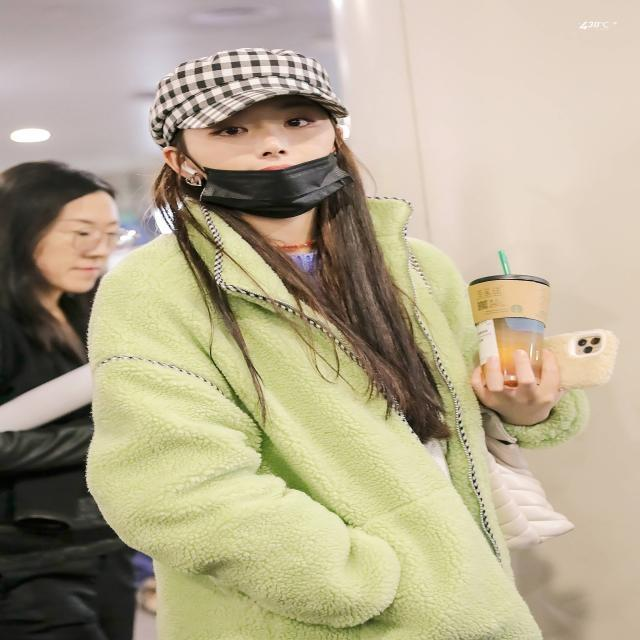hairnet: (183, 100, 333, 208)
